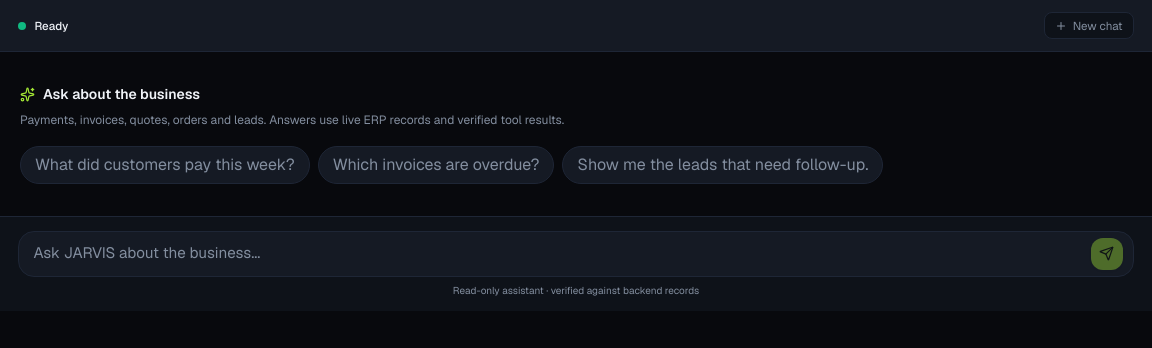
Test: execution lifecycle › renders the fallback once when it is streamed and then completed
The image size is (1152, 348).
In the text box named "Message Biztek Assistant": (556, 254) x1=29 y1=242 x2=1083 y2=265, type "What did customers pay this week?"
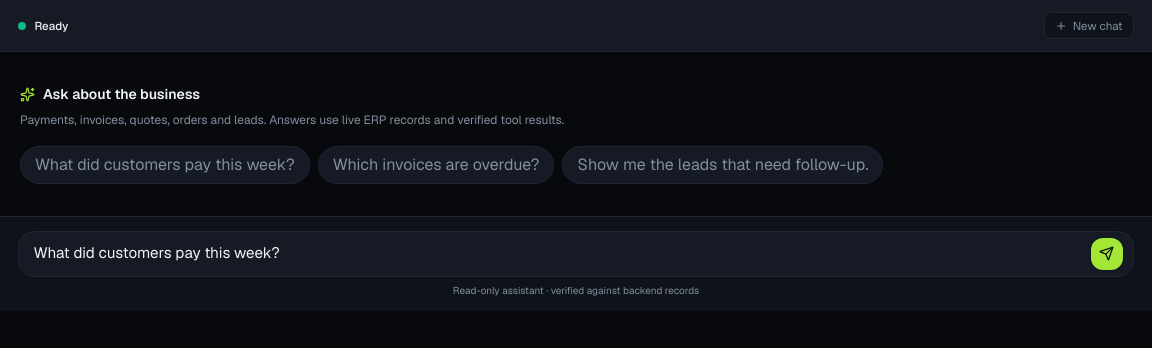
Click the button named "Send message": click(1107, 254) x1=1091 y1=238 x2=1123 y2=270
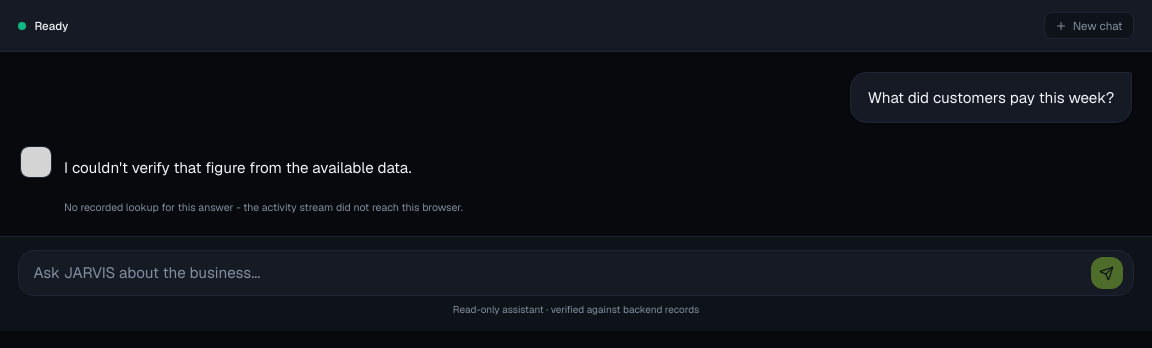
Check: the text "I couldn't verify that figure from the available data." is shown once, box x1=64 y1=158 x2=412 y2=177
